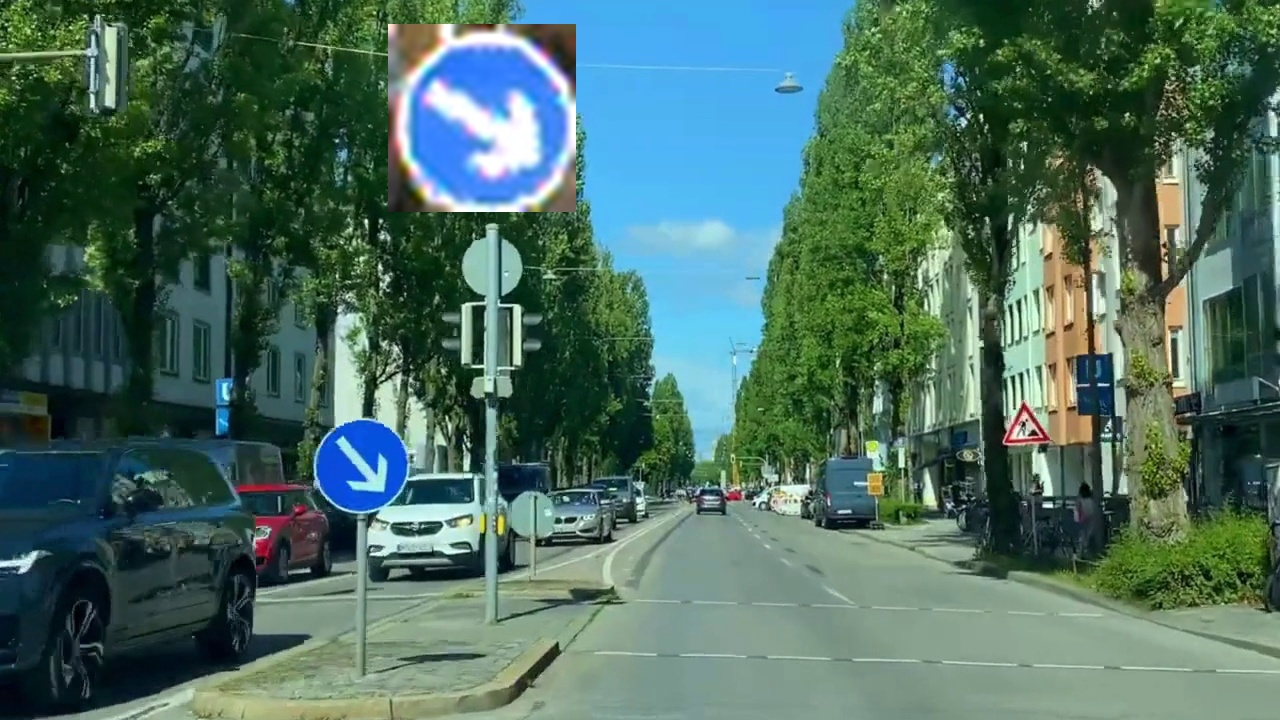Keep right: (388, 24, 576, 212)
